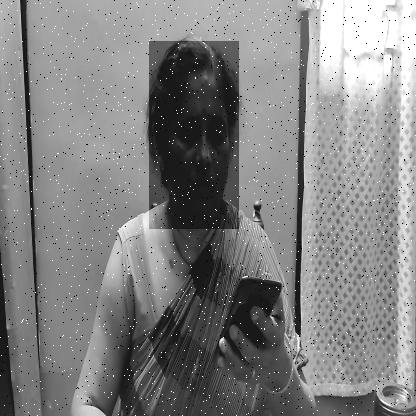Normal: (149, 41, 239, 229)
